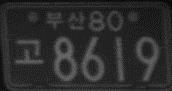0: (107, 9, 123, 33)
1: (113, 35, 126, 82)
6: (81, 34, 105, 83)
8: (52, 36, 79, 83), (88, 9, 105, 32)
9: (135, 35, 159, 81)
고: (14, 38, 44, 65)
부산_O: (45, 9, 85, 32)
